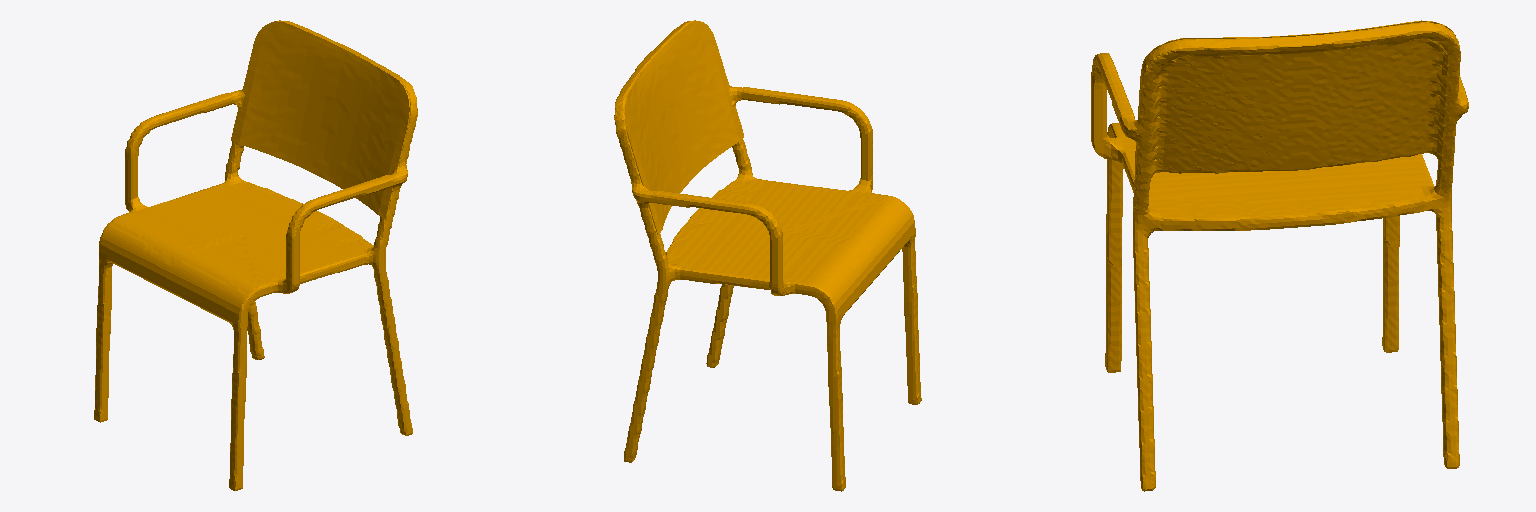
robot.urdf — 03001627_9231ef07326eae09b04cb542e2c50eb4_object:
<robot name="03001627_9231ef07326eae09b04cb542e2c50eb4_object">
	<link name="_name">
		<visual>
			<origin xyz="1.1330005672430798 0.8881579555678993 0.7516620741606878" rpy="0.0 0.0 0.0" />
			<geometry>
				<mesh filename="03001627_9231ef07326eae09b04cb542e2c50eb4_object.obj" />
			</geometry>
		</visual>
		<collision>
			<origin rpy="0.0 0.0 0.0" xyz="1.1330005672430798 0.8881579555678993 0.7516620741606878" />
			<geometry>
				<mesh filename="03001627_9231ef07326eae09b04cb542e2c50eb4_object_vhacd.obj" />
			</geometry>
		</collision>
		<inertial>
			<origin rpy="0 0 0" xyz="0 0 0" />
			<mass value="1.0" />
			<inertia ixx="0.001" ixy="0.0" ixz="0.0" iyy="0.001" iyz="0.0" izz="0.001" />
		</inertial>
	</link>
</robot>

--- What the picture shows (computed from the rendered views, not written in the file) ---
3 views of the same robot in one strip: view 1: azimuth 30°, elevation 25°; view 2: azimuth 150°, elevation 25°; view 3: azimuth 270°, elevation 25° (orthographic).
Model 03001627_9231ef07326eae09b04cb542e2c50eb4_object with 1 links and 0 joints (none), rooted at _name, posed every joint at zero.
Links seen in each view (by area): view 1: _name; view 2: _name; view 3: _name.
Link boxes in pixels (bbox=[...]): _name: bbox=[94, 20, 417, 490]; _name: bbox=[614, 20, 921, 491]; _name: bbox=[1091, 20, 1468, 491].
Size in the robot's own frame: 0.6131 by 0.6412 by 0.8535 metres.
1 mesh visuals loaded from 1 distinct referenced files (1 OBJ).